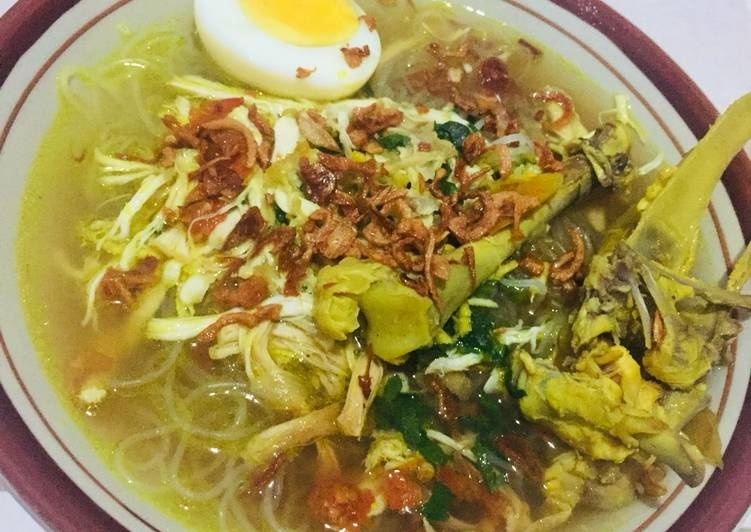soto: (12, 32, 727, 496)
